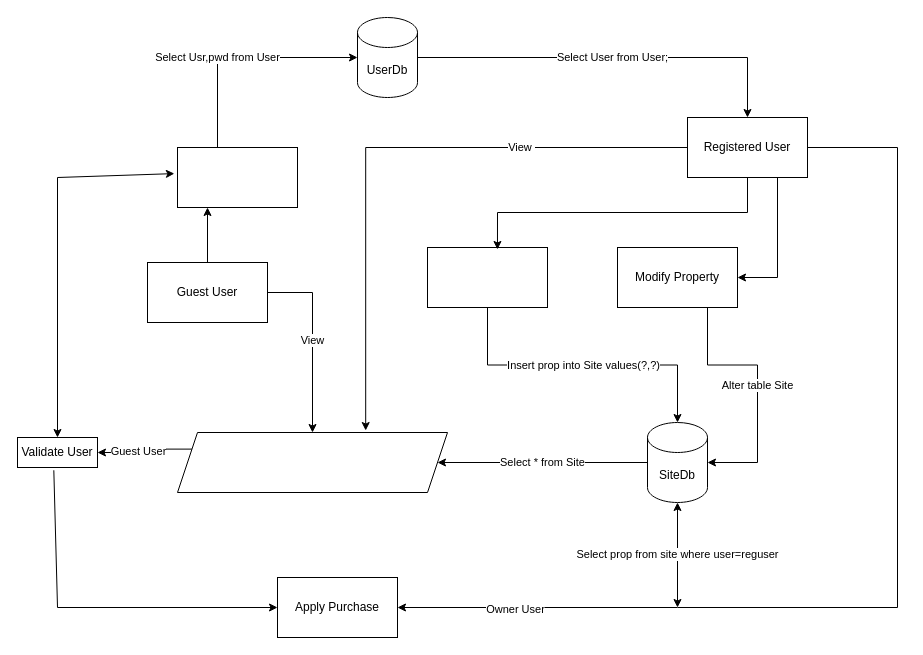
Image size: 923x655. Some labels were removed from this diagram. Here are the shapes that lost their labels. From the top down, the centre of each, then its label:
the point at 237,177: SIgn-up / Login
the point at 487,277: Add Property
the point at 312,462: Property Catelog(Airbnb Homepage) Price,Location,Landmark
